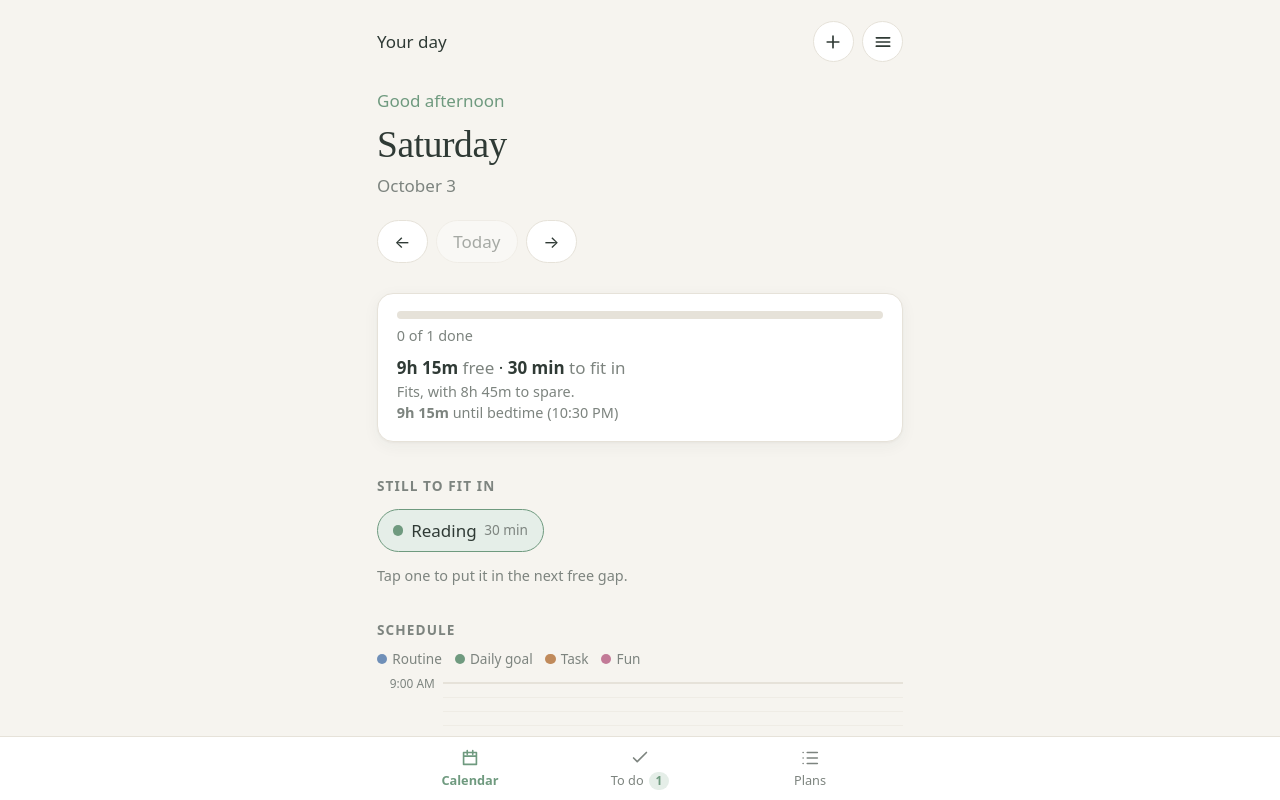
what is left › has nothing to fit in on a day that has gone
Expected: the heading "Saturday" is shown, x1=377 y1=124 x2=507 y2=165
Expected: the element "Still to fit in" is shown, x1=377 y1=476 x2=628 y2=585
Click the button named "Previous day".
click(402, 242)  # box x1=377 y1=220 x2=428 y2=263
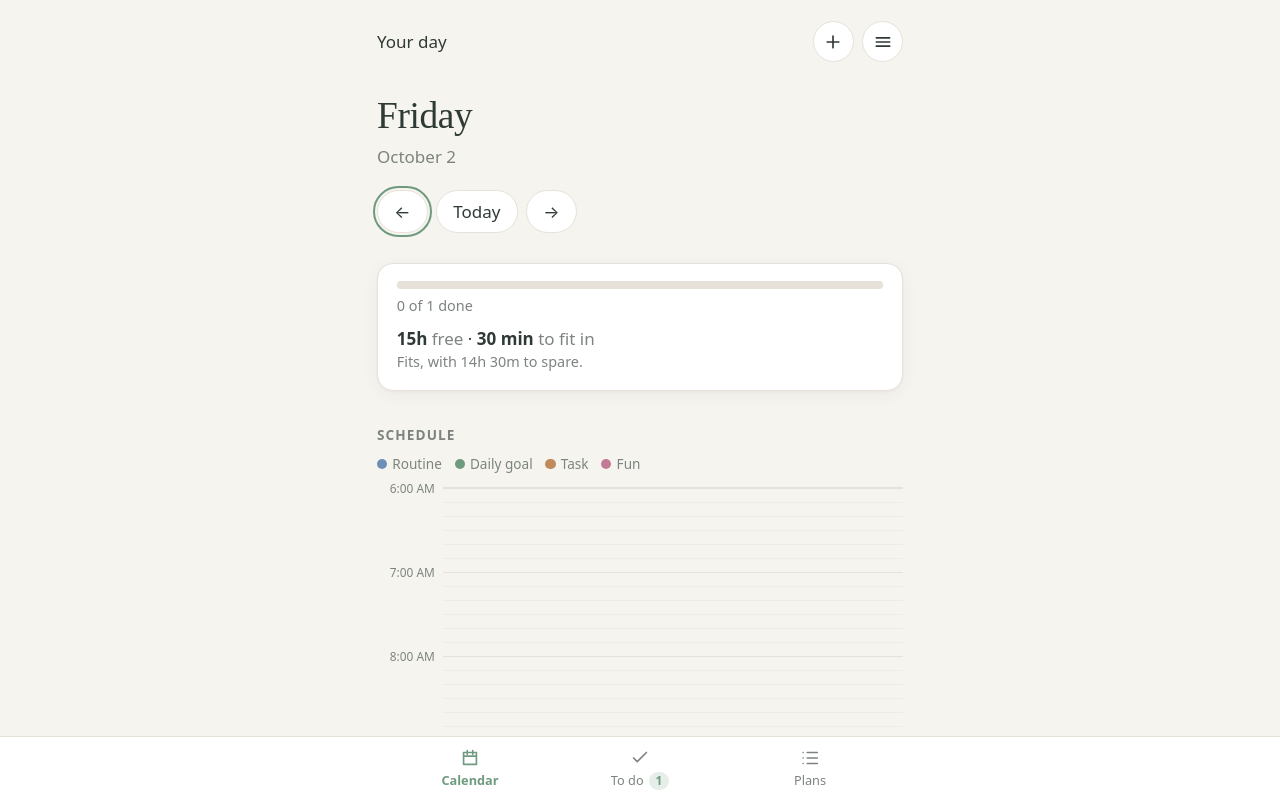
Expected: the heading "Still to fit in" is gone
